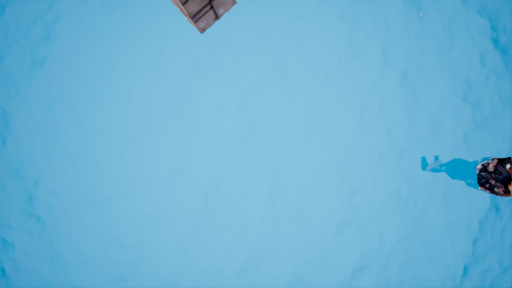person: (418, 143, 512, 202)
